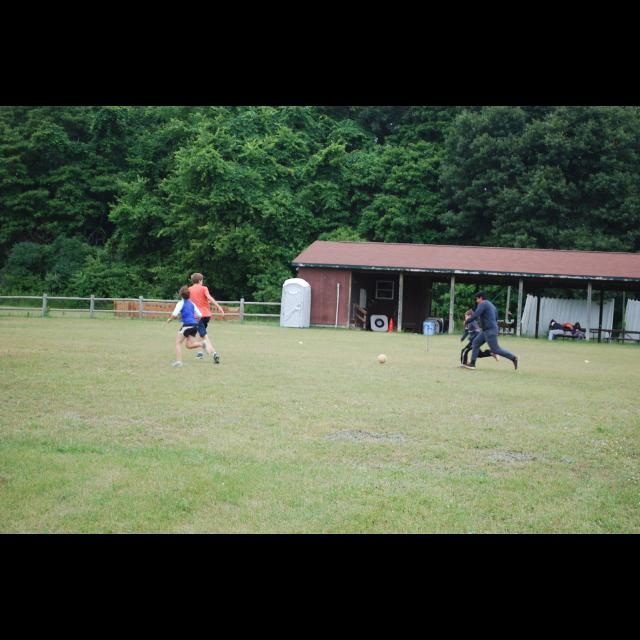Football: (377, 352, 385, 362)
